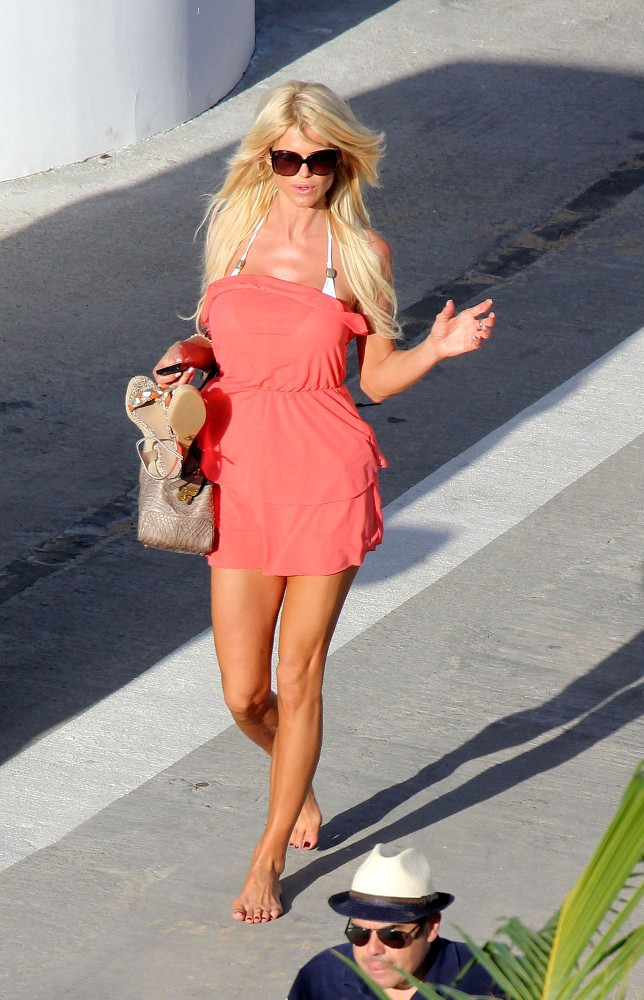Person: (111, 48, 506, 933), (272, 840, 533, 1000)
